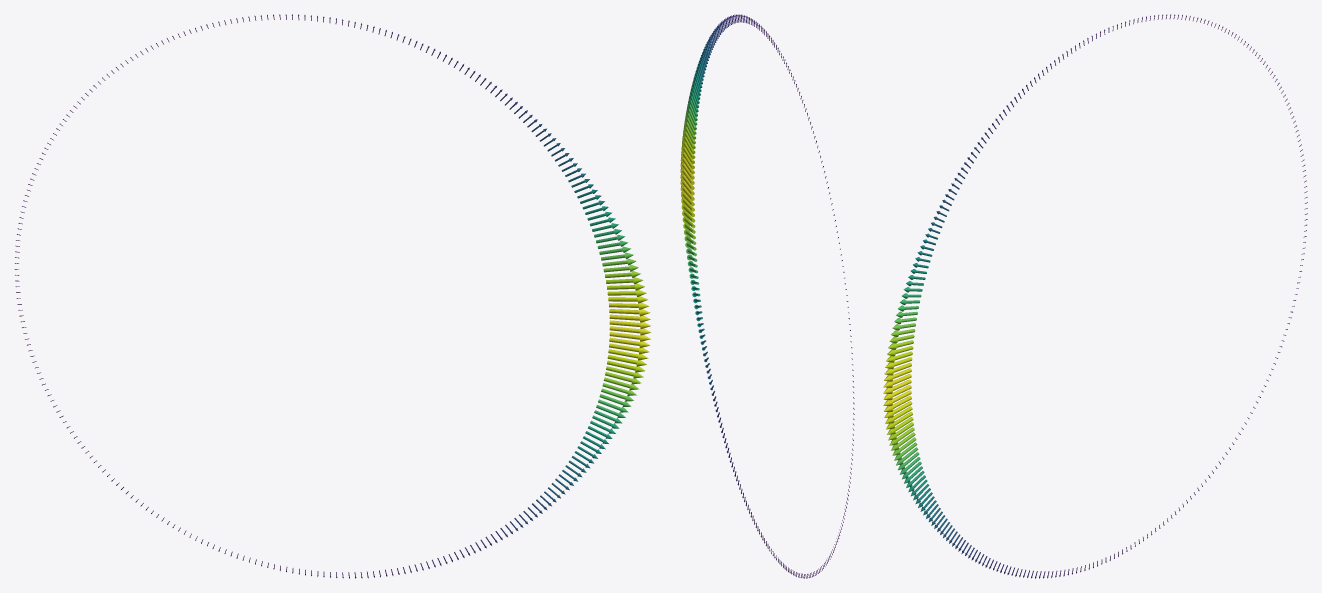
File: coil_7_forces.gltf
3 renders of one model, left to right at view 1: azimuth 30°, elevation 25°; view 2: azimuth 150°, elevation 25°; view 3: azimuth 270°, elevation 25°, orthographic. The views are drawn at different scales.
Visible parts, largest first — view 1: Renderer Node; view 2: Renderer Node; view 3: Renderer Node.
Boxes of the visible parts, bbox=[...] form: Renderer Node: bbox=[14, 14, 651, 578]; Renderer Node: bbox=[680, 14, 854, 578]; Renderer Node: bbox=[883, 14, 1307, 578].
Bounding box in the file's own units: 0.4717 × 0.6132 × 0.4425.
Materials: 1 (1 with a texture image).
